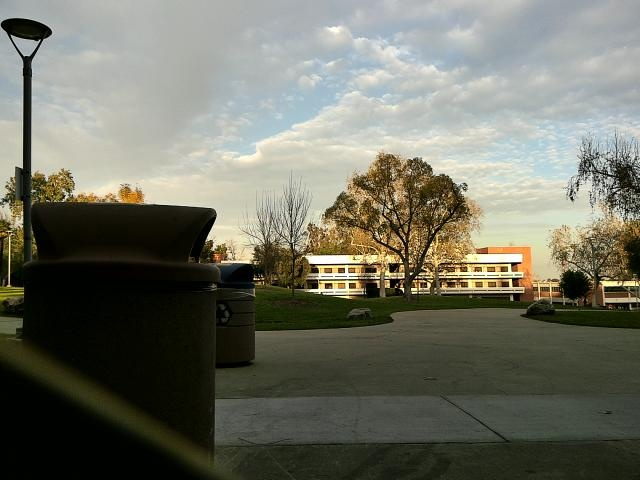trashcan: (16, 192, 222, 480), (207, 251, 255, 374)
